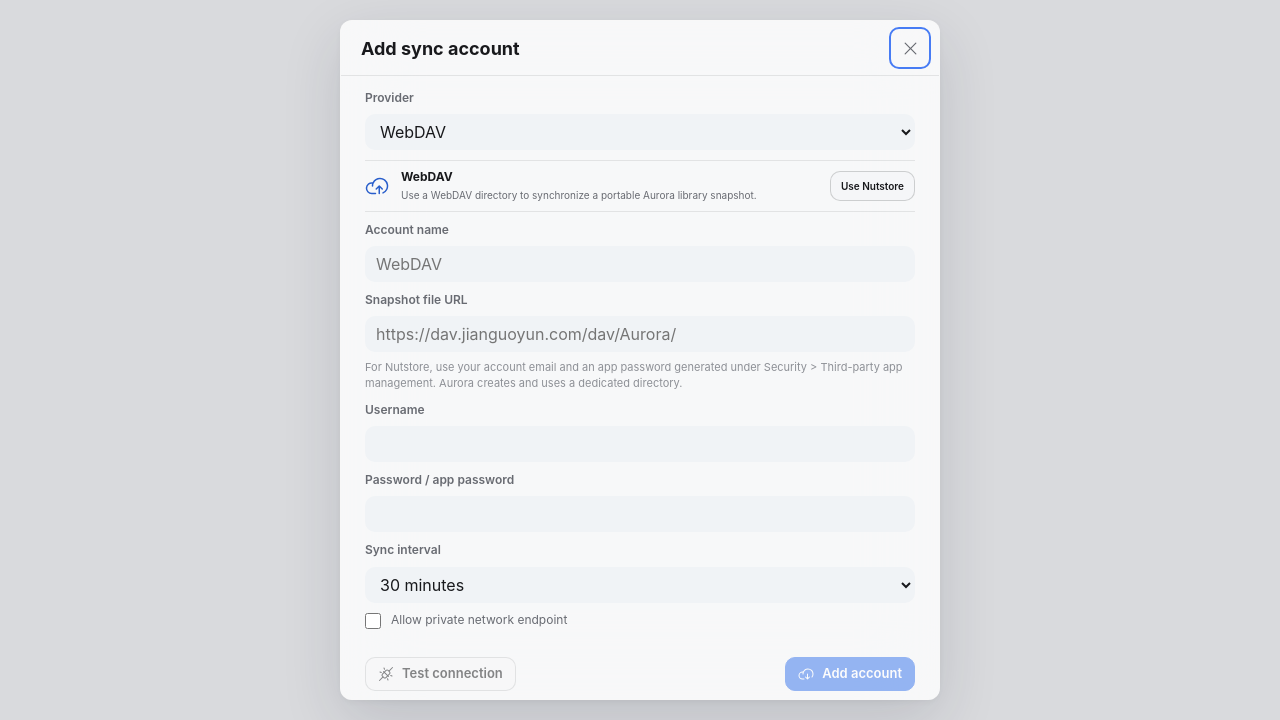
SyncAccountDialog › ignores a connection response after test inputs change
Type "https://dav.example.com/old/" into the field labelled "Snapshot file URL".
click(640, 334); type("https://dav.example.com/old/")  # box [365,316,915,352]
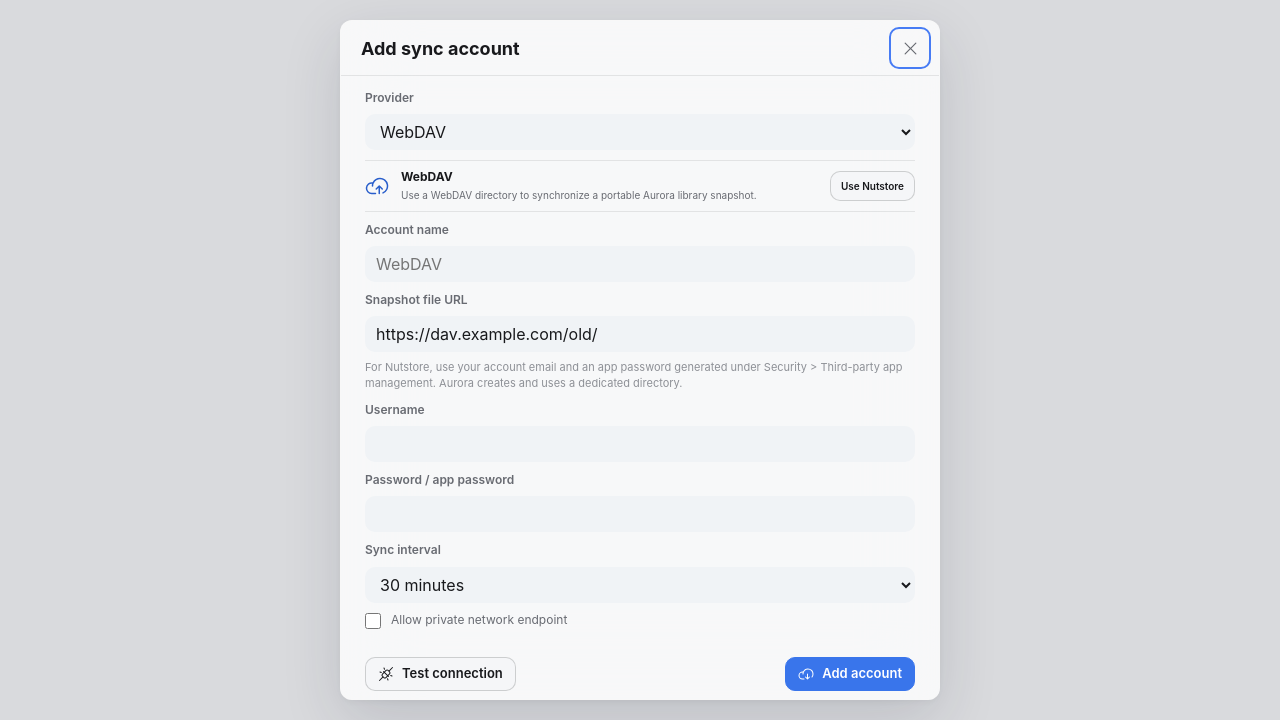
Click the button "Test connection".
click(440, 674)  # box [365,656,516,690]
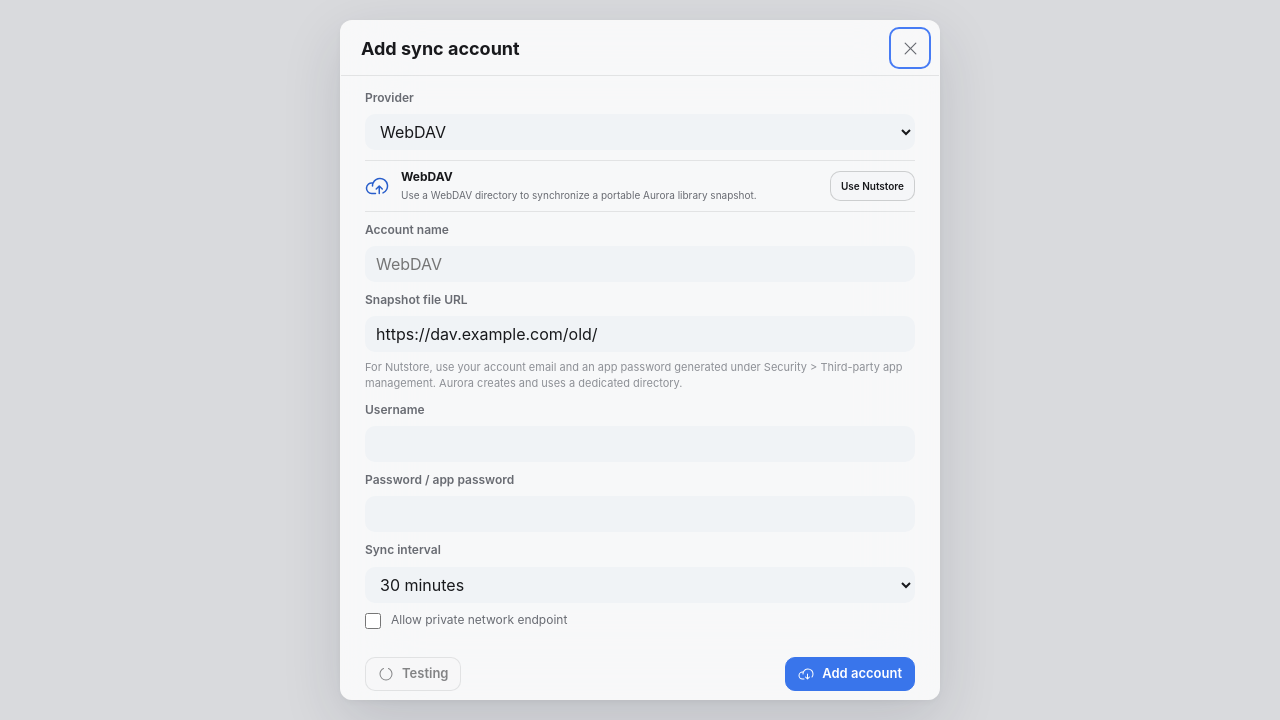
Replace the text in the field labelled "Snapshot file URL" with "https://dav.example.com/new/" at (640, 334), box [365,316,915,352]
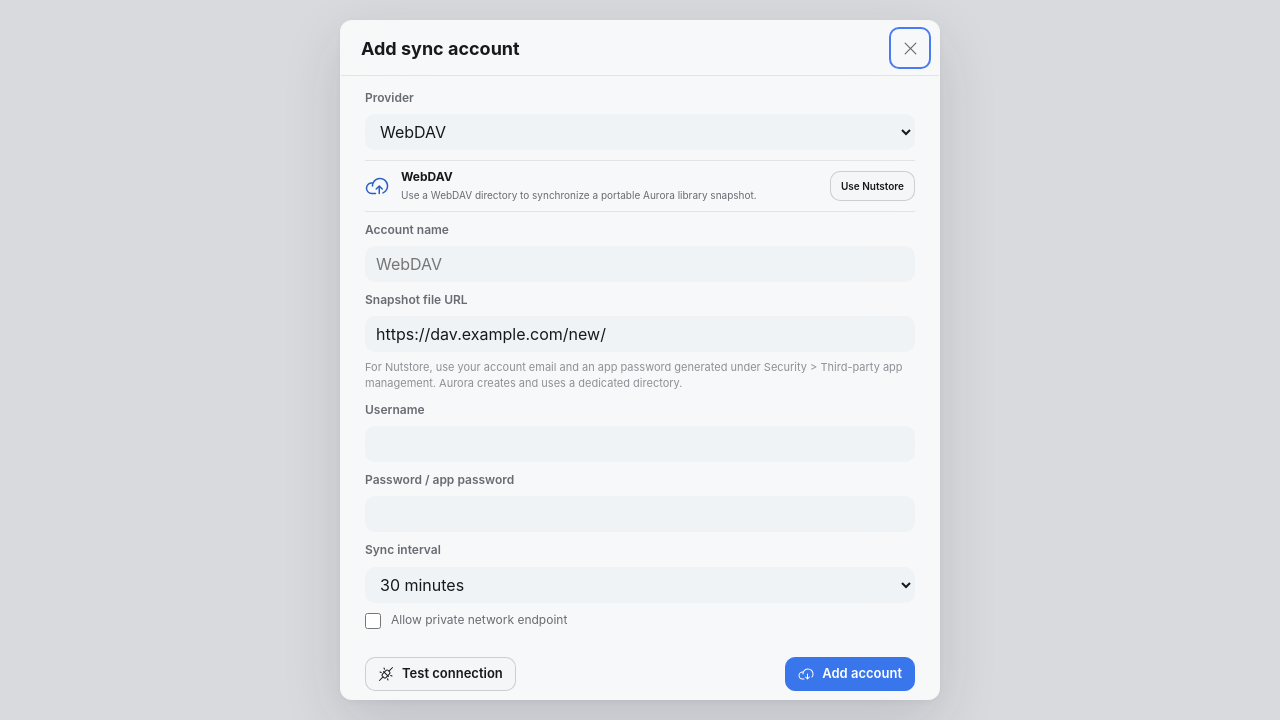
Now the button "Test connection" is enabled, box [365,656,516,690]
